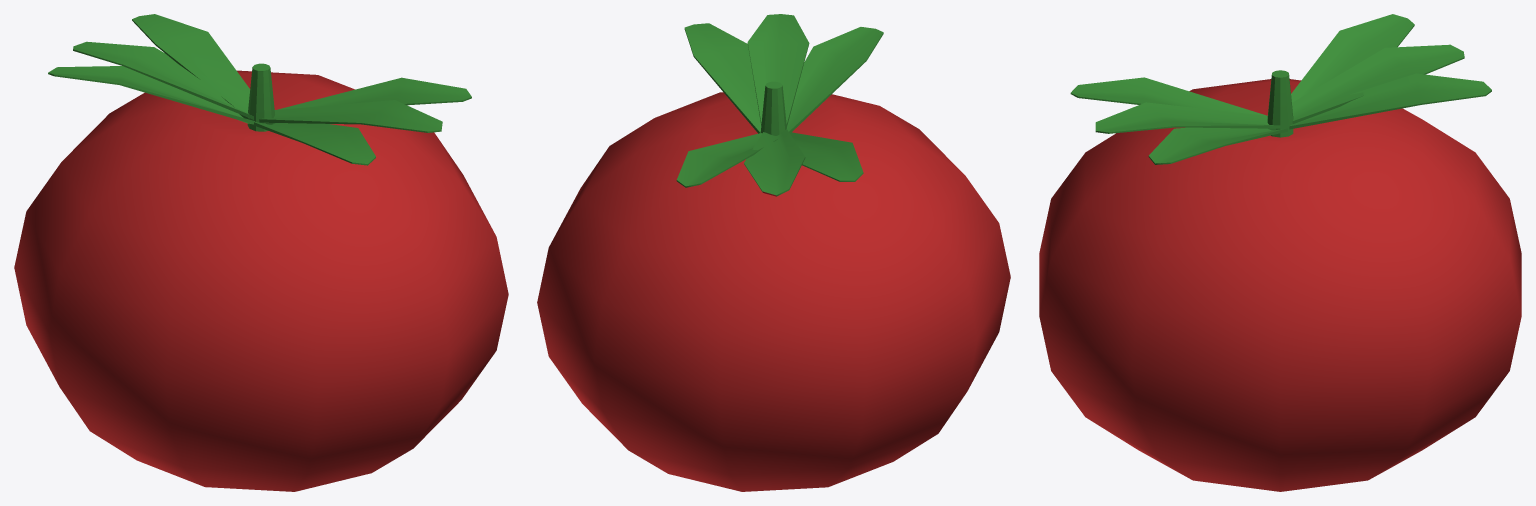
The model's file is Tomato.fbx.
The picture shows the model from 3 angles, left to right: view 1: azimuth 30°, elevation 25°; view 2: azimuth 150°, elevation 25°; view 3: azimuth 270°, elevation 25°; orthographic projection. The views are drawn at different scales.
Visible parts, largest first — view 1: Tomato; view 2: Tomato; view 3: Tomato.
Part boxes in pixels (left/top/right/bottom): Tomato: left=14, top=14, right=508, bottom=491; Tomato: left=537, top=14, right=1010, bottom=491; Tomato: left=1039, top=14, right=1521, bottom=491.
Bounding box in the file's own units: 246 × 246 × 221.
Materials: 1 (1 with a texture image).
